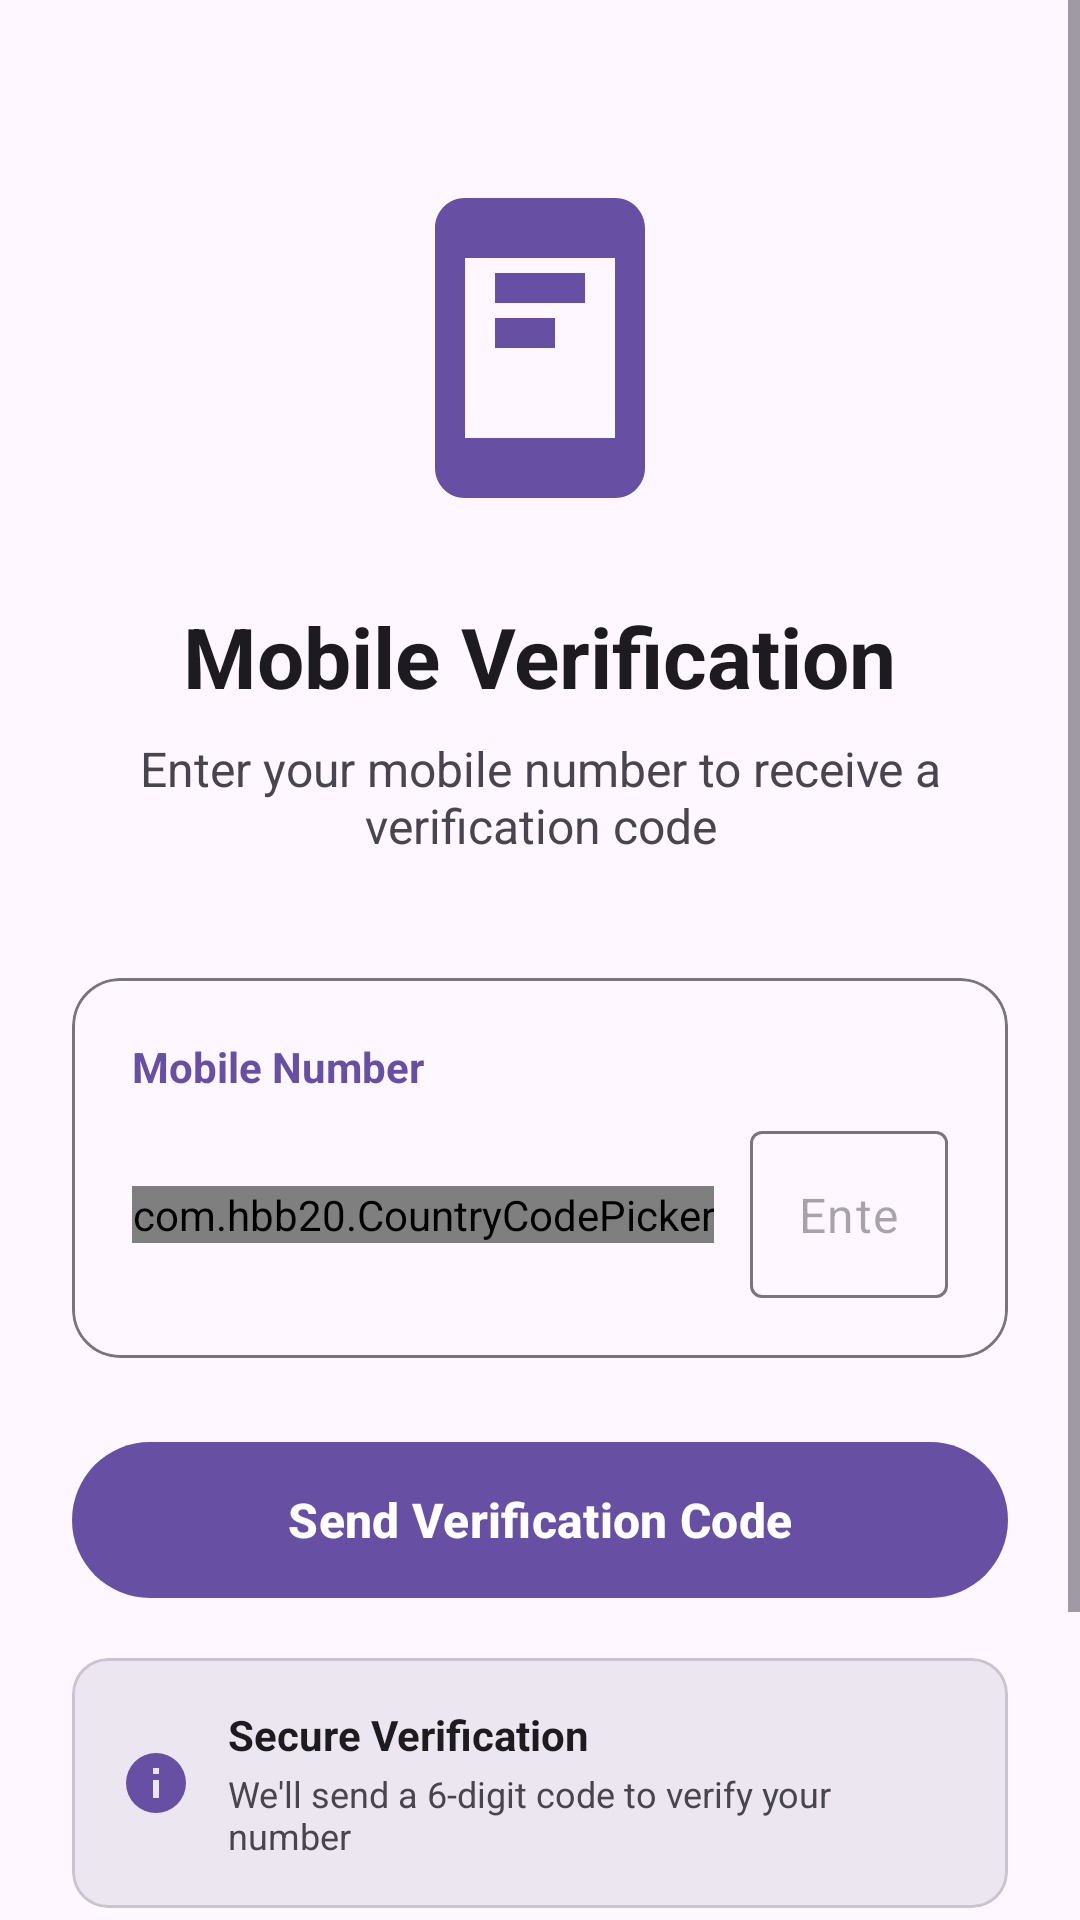

Icon bounding boxes for this 1080×1920 phone screenshot, format (x1, y1, x2, y2):
info: (126, 1753, 186, 1813)
